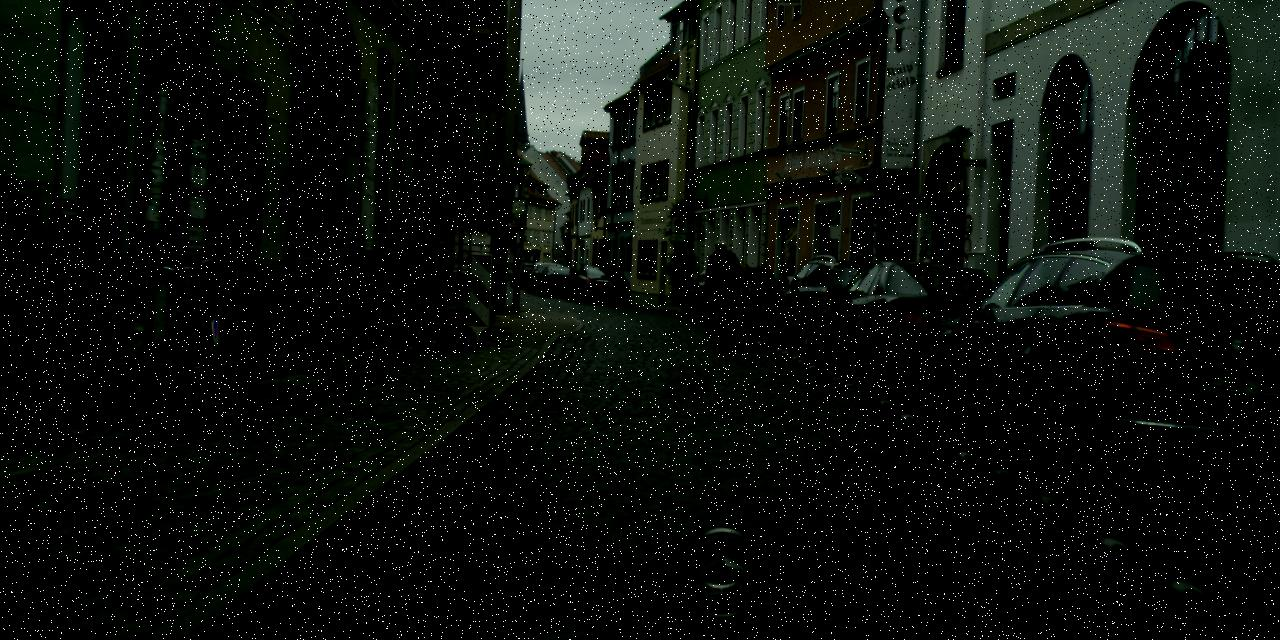ped: (704, 239, 740, 328)
